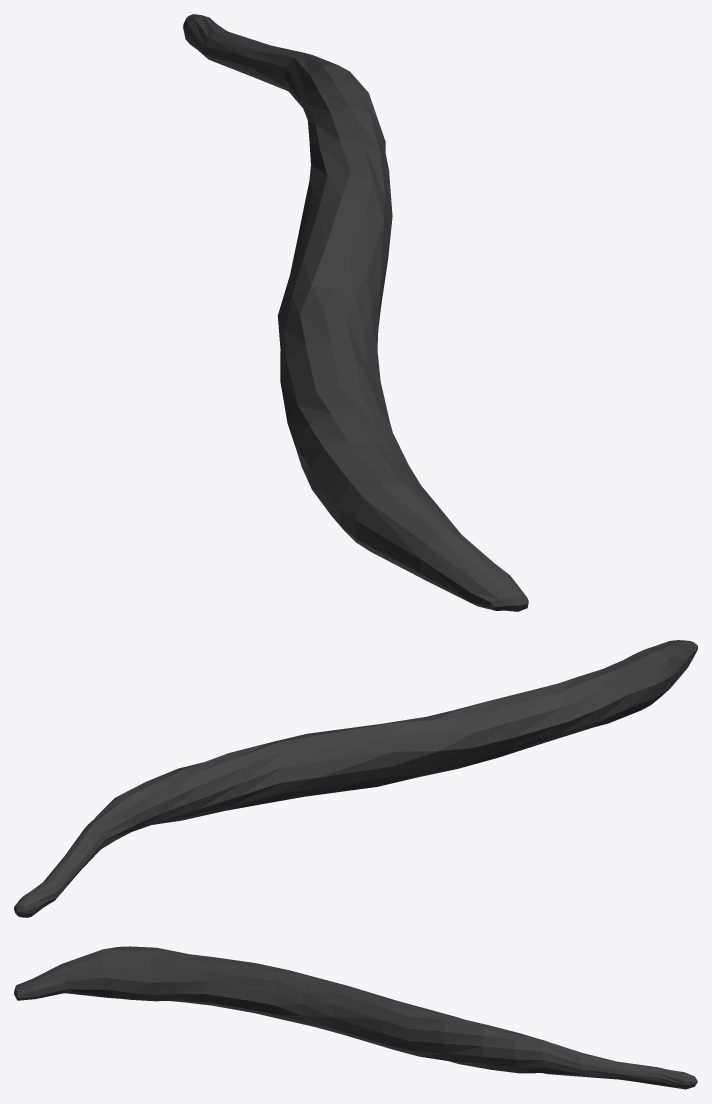
Rendered from HumFlexorCarpiUlnaris_1.glb.
3 renders of one model, top to bottom at view 1: azimuth 30°, elevation 25°; view 2: azimuth 150°, elevation 25°; view 3: azimuth 270°, elevation 25°, orthographic. The views are drawn at different scales.
Visible parts, largest first — view 1: HumFlexorCarpiUlnaris_1; view 2: HumFlexorCarpiUlnaris_1; view 3: HumFlexorCarpiUlnaris_1.
Boxes of the visible parts, x1,y1,x2,y2 form: HumFlexorCarpiUlnaris_1: (183,14,528,611); HumFlexorCarpiUlnaris_1: (14,640,697,917); HumFlexorCarpiUlnaris_1: (14,946,697,1089).
Bounding box in the file's own units: 0.0149 × 0.00331 × 0.0396.
1 material, 1 textured.
